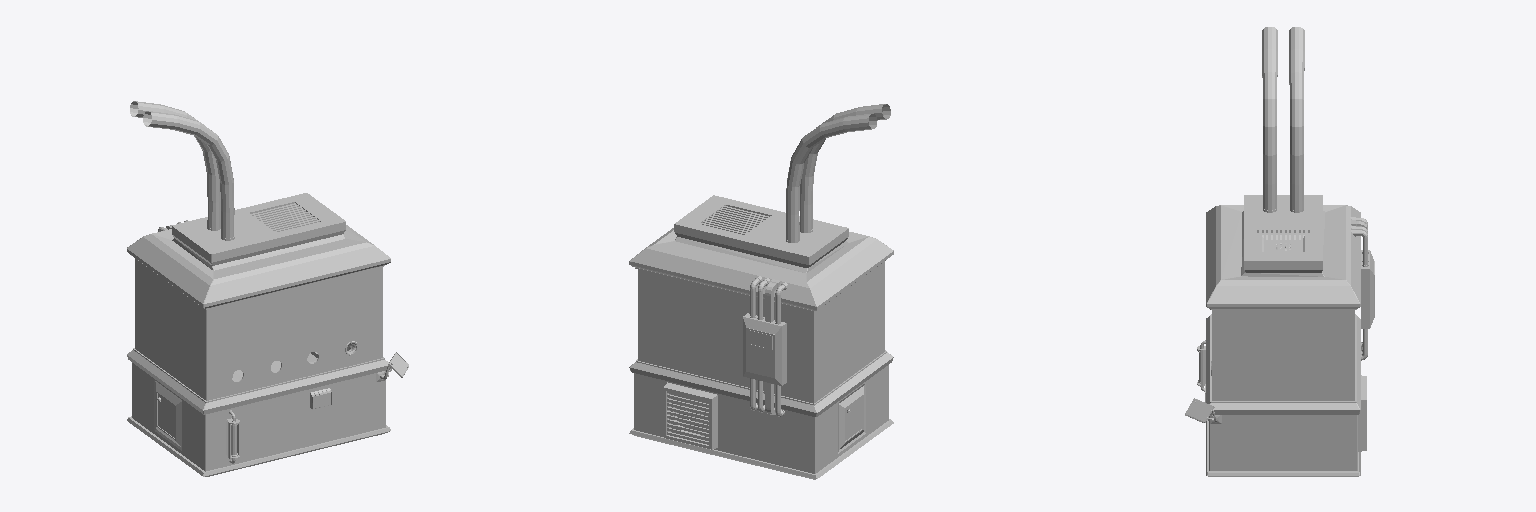
The model's file is Plantbox_large_G_low.obj.
The picture shows the model from 3 angles: view 1: azimuth 30°, elevation 25°; view 2: azimuth 150°, elevation 25°; view 3: azimuth 270°, elevation 25°; orthographic projection.
Visible parts, largest first — view 1: plantbox_low Plantbox_large_low, Plantbox_large_low glass_low, Plantbox_large_low airPipe_low, Plantbox_large_low lattice_low latticeTop_low; view 2: plantbox_low Plantbox_large_low, Plantbox_large_low glass_low, Plantbox_large_low pipes_low, Plantbox_large_low airPipe_low, Plantbox_large_low lattice_low latticeTop_low, Plantbox_large_low cage_low; view 3: plantbox_low Plantbox_large_low, Plantbox_large_low glass_low, Plantbox_large_low airPipe_low, Plantbox_large_low pipes_low, Plantbox_large_low lattice_low latticeTop_low, Plantbox_large_low cage_low, Plantbox_large_low cnobdesk_low.
Part boxes in pixels (x1,y1,x2,y2): plantbox_low Plantbox_large_low: (127, 193, 390, 476); Plantbox_large_low glass_low: (135, 258, 382, 400); Plantbox_large_low airPipe_low: (130, 101, 234, 238); Plantbox_large_low lattice_low latticeTop_low: (251, 203, 319, 231); plantbox_low Plantbox_large_low: (629, 195, 893, 479); Plantbox_large_low glass_low: (638, 261, 884, 403); Plantbox_large_low pipes_low: (743, 276, 787, 416); Plantbox_large_low airPipe_low: (786, 104, 890, 240); Plantbox_large_low lattice_low latticeTop_low: (667, 206, 768, 444); Plantbox_large_low cage_low: (664, 382, 717, 449); plantbox_low Plantbox_large_low: (1206, 195, 1360, 476); Plantbox_large_low glass_low: (1212, 310, 1354, 400); Plantbox_large_low airPipe_low: (1262, 27, 1304, 210); Plantbox_large_low pipes_low: (1350, 217, 1374, 360); Plantbox_large_low lattice_low latticeTop_low: (1259, 230, 1307, 251); Plantbox_large_low cage_low: (1358, 375, 1366, 451); Plantbox_large_low cnobdesk_low: (1185, 398, 1221, 423).
Bounding box in the file's own units: 294 × 426 × 210.